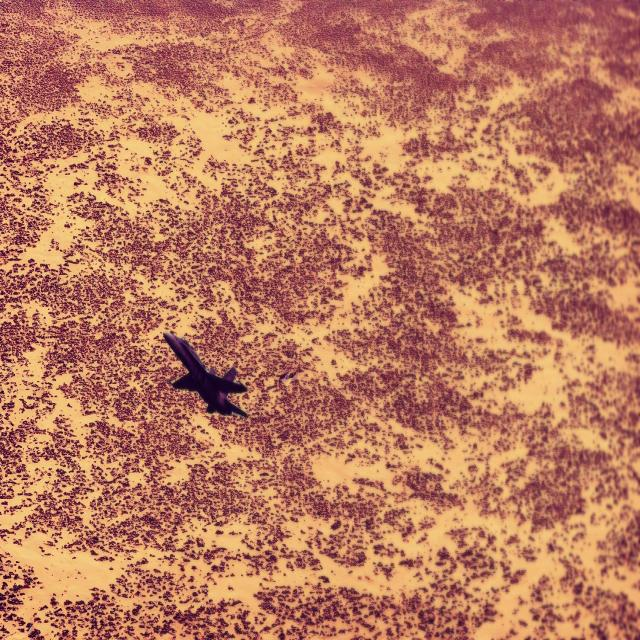airplane: (162, 329, 248, 418)
